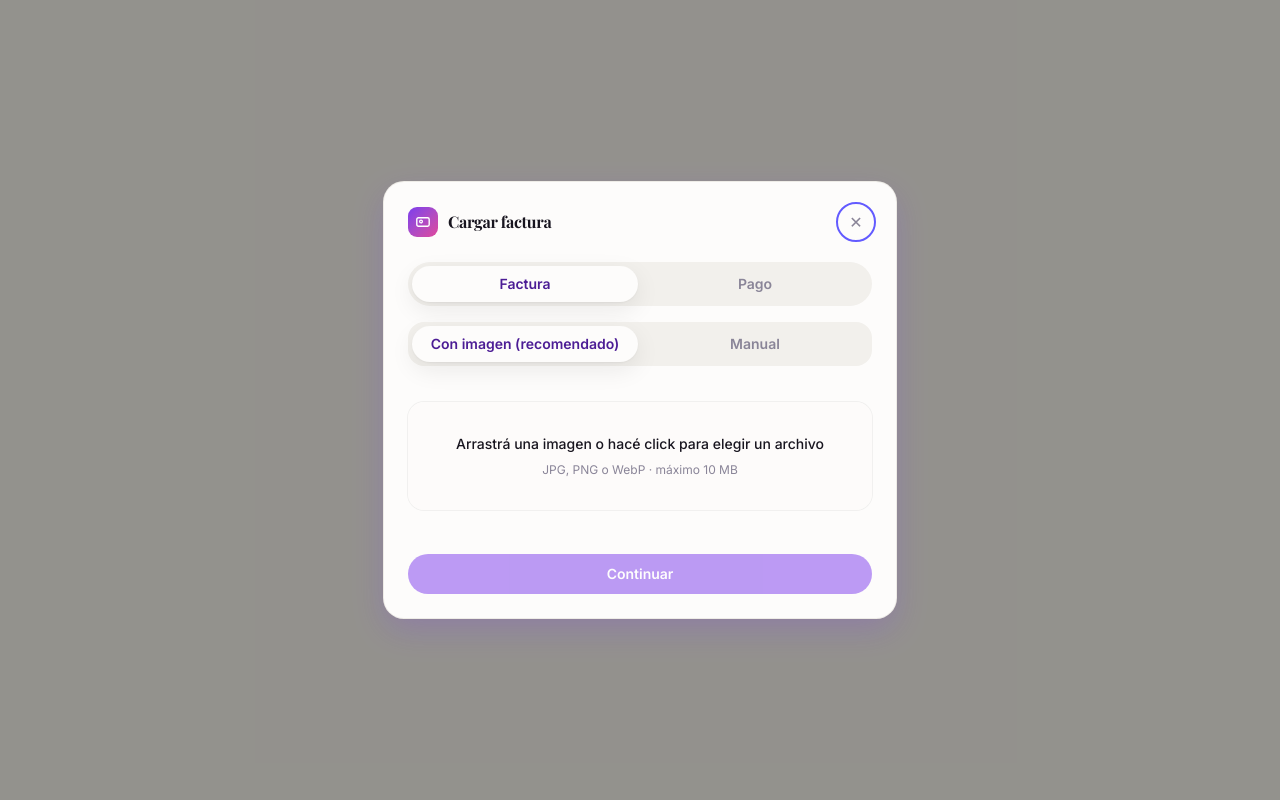
CargaModal — clearing the prefilled supplier (c-26) › leaves the supplier search usable so a different one can be typed
This screenshot has width=1280, height=800.
Step 1. Click the button "Manual" → x=755, y=344, box [642,326,868,362]
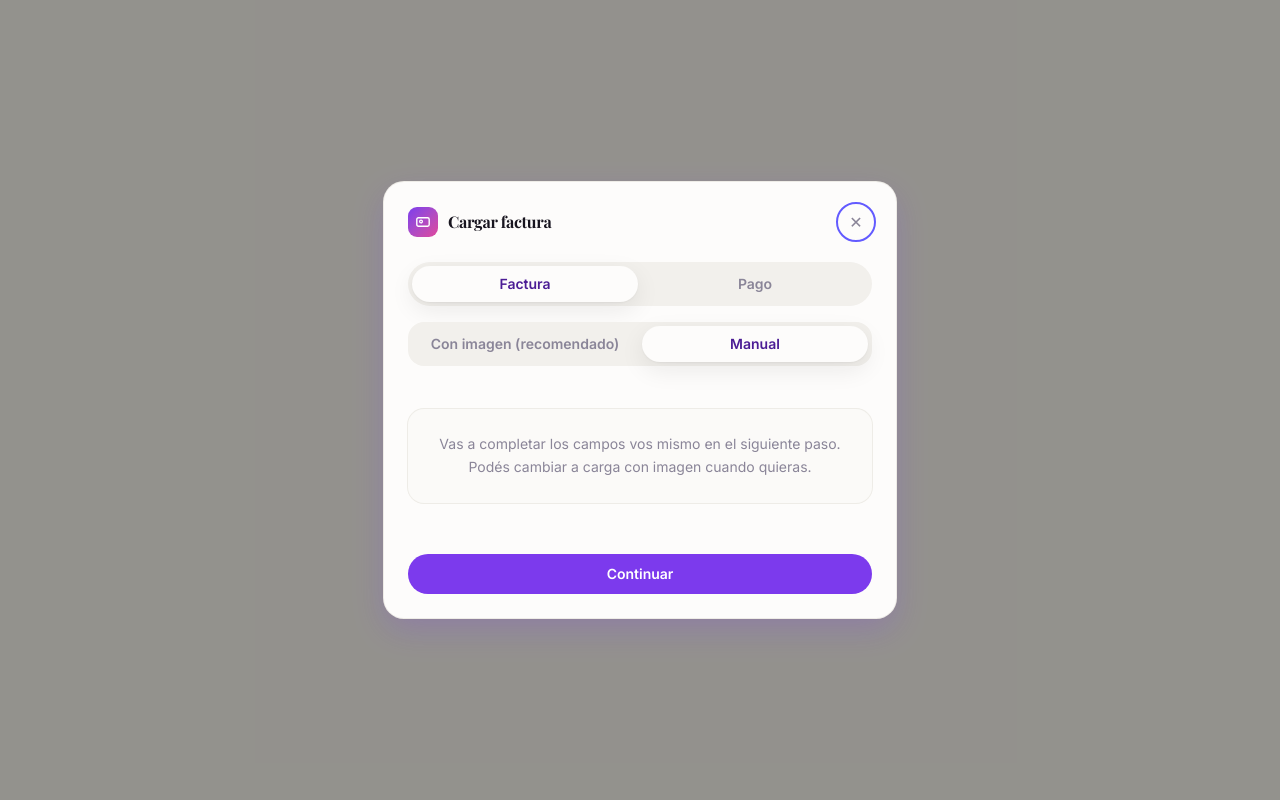
Step 2. Click the button "Continuar" → x=640, y=574, box [408,554,872,594]
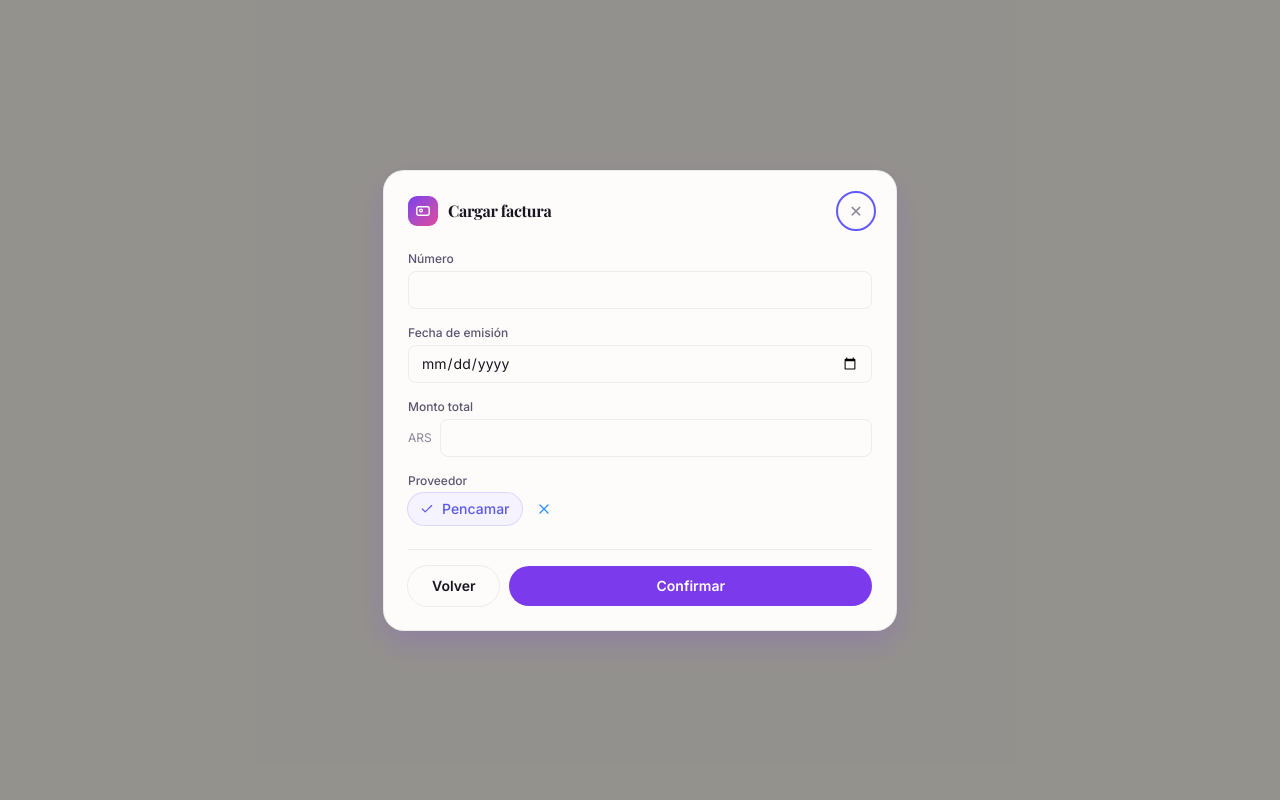
Step 3. Click the button named "limpiar" → x=544, y=508, box [530,494,558,522]
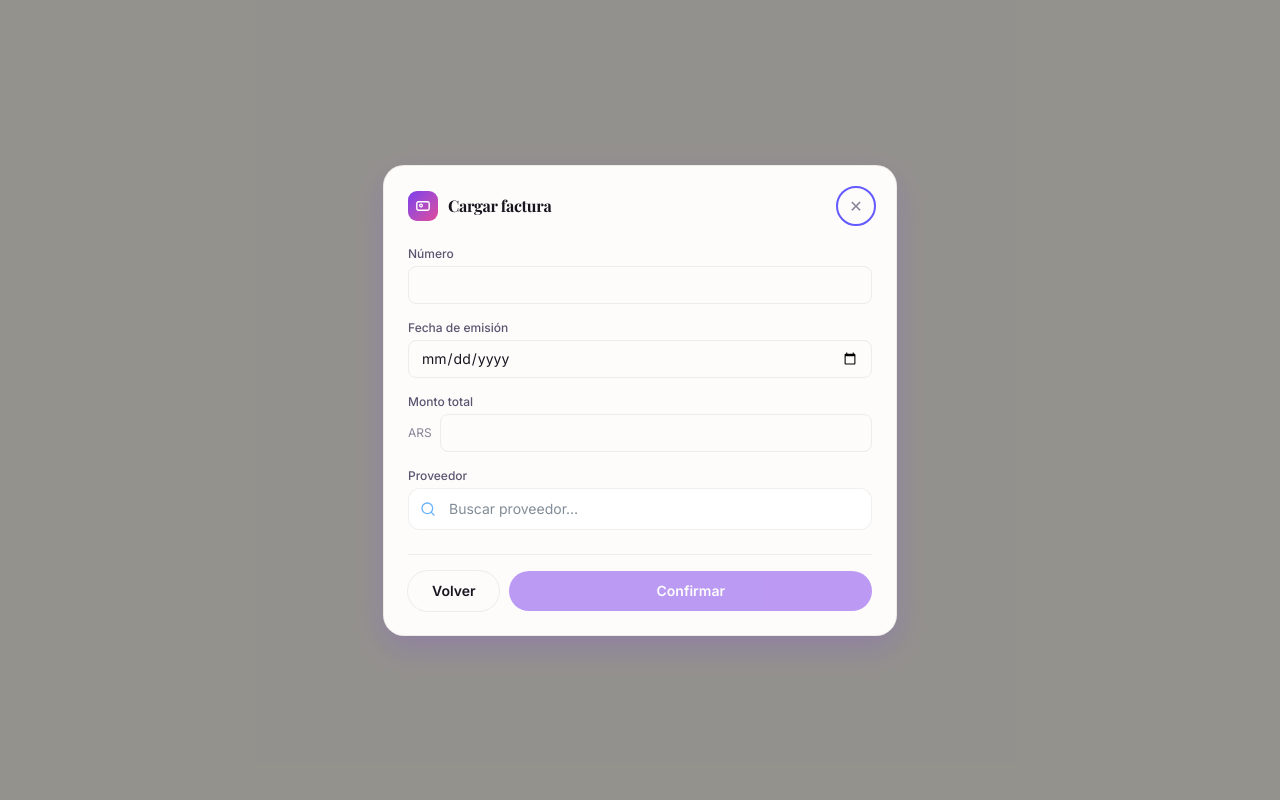
Check: the dropdown is enabled, box [408,488,872,530]
